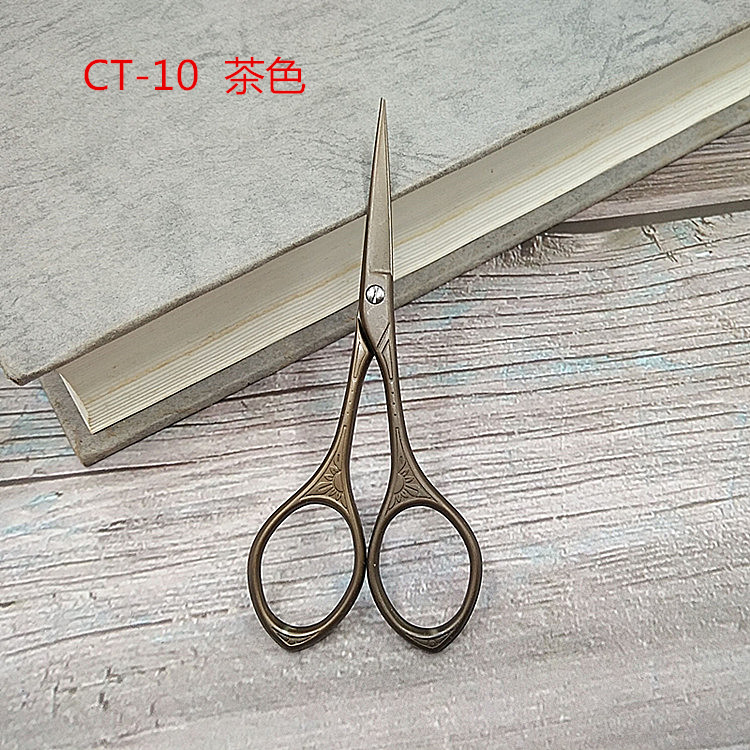scissors: (245, 93, 490, 662)
